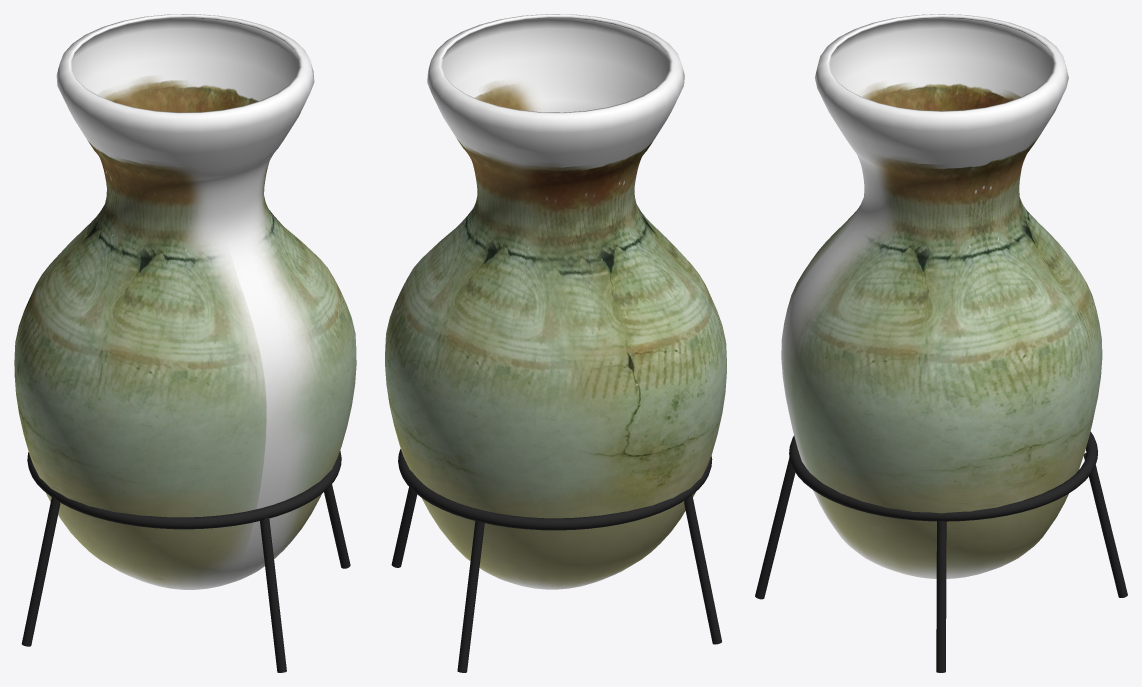
The model's file is Jar.glb.
3 views of the same model, side by side, from view 1: azimuth 30°, elevation 25°; view 2: azimuth 150°, elevation 25°; view 3: azimuth 270°, elevation 25° (orthographic).
Visible parts, largest first — view 1: Line02, Torus01, Cylinder03, Cylinder02, Cylinder01; view 2: Line02, Torus01, Cylinder04, Cylinder02, Cylinder01; view 3: Line02, Torus01, Cylinder01, Cylinder03, Cylinder04.
Part boxes in pixels (left/top/right/bottom): Line02: left=14, top=14, right=356, bottom=589; Torus01: left=27, top=451, right=341, bottom=529; Cylinder03: left=260, top=517, right=286, bottom=672; Cylinder02: left=21, top=497, right=60, bottom=646; Cylinder01: left=324, top=484, right=350, bottom=568; Line02: left=385, top=14, right=726, bottom=589; Torus01: left=398, top=449, right=712, bottom=530; Cylinder04: left=457, top=521, right=484, bottom=672; Cylinder02: left=684, top=495, right=721, bottom=644; Cylinder01: left=391, top=487, right=417, bottom=567; Line02: left=781, top=14, right=1102, bottom=578; Torus01: left=789, top=431, right=1097, bottom=521; Cylinder01: left=936, top=521, right=946, bottom=672; Cylinder03: left=755, top=457, right=795, bottom=599; Cylinder04: left=1083, top=453, right=1127, bottom=597.
Bounding box in the file's own units: 5.88 × 9.27 × 5.88.
Materials: 2 (1 with a texture image).
